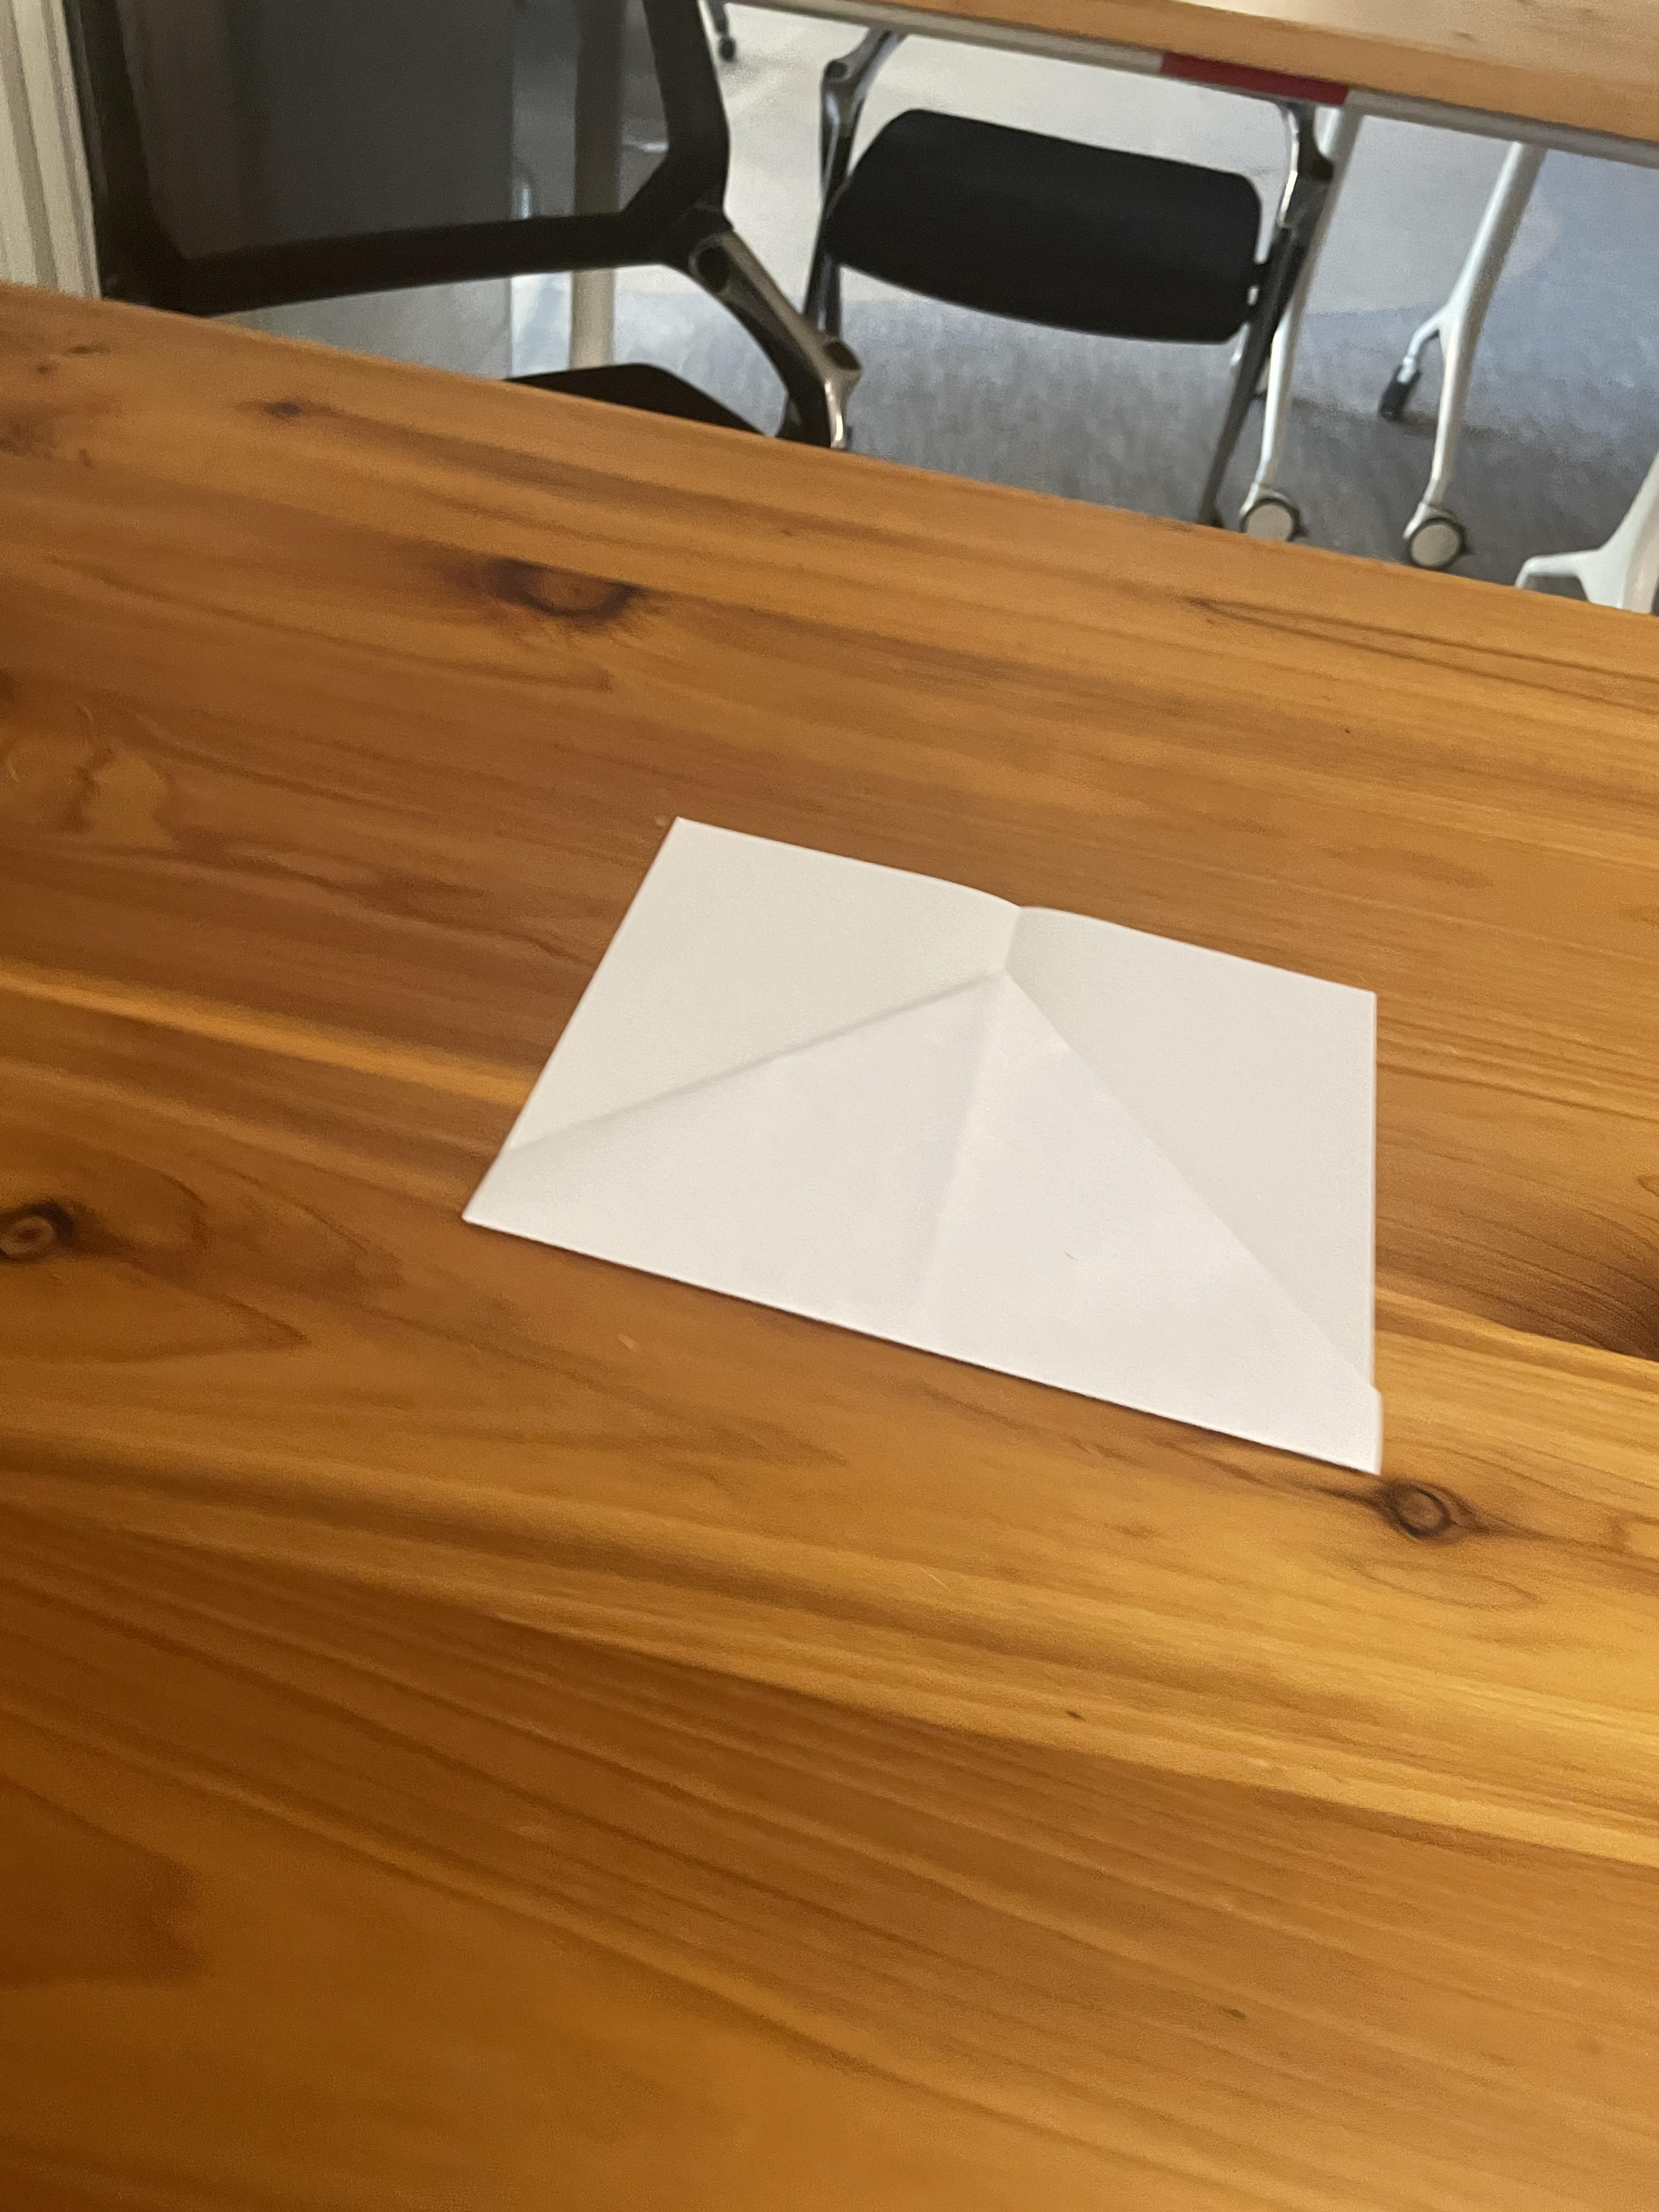shape_1: (301, 589, 1575, 1674)
